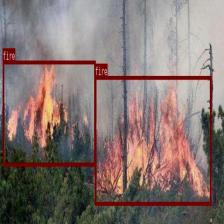fire: (95, 76, 211, 204), (2, 60, 96, 165)
